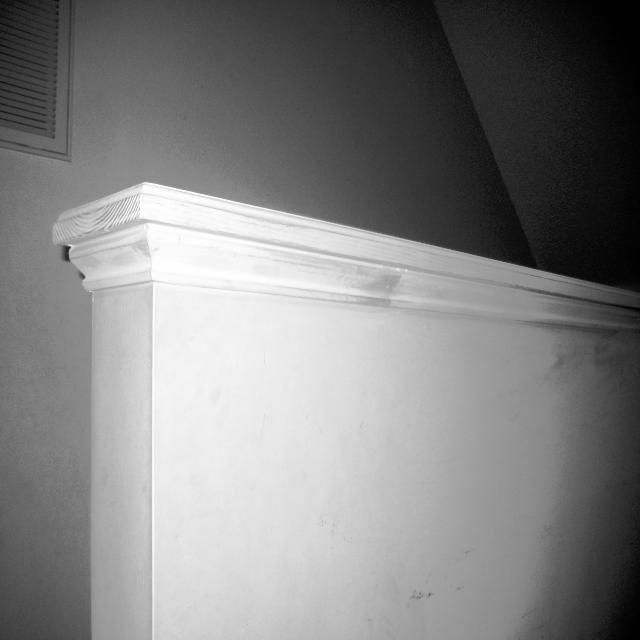stain marks: (248, 222, 440, 332)
